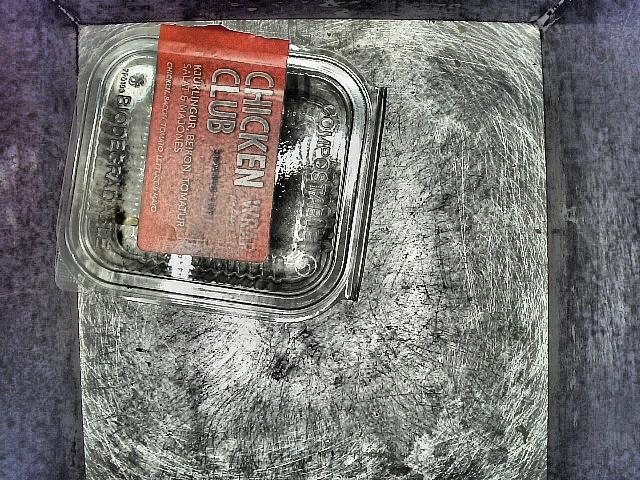Plastic: (46, 35, 410, 311)
